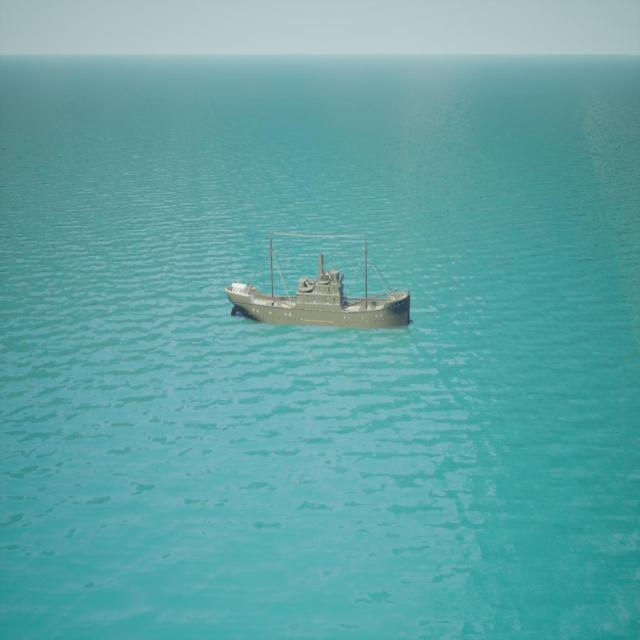fishing ship: (226, 236, 413, 332)
